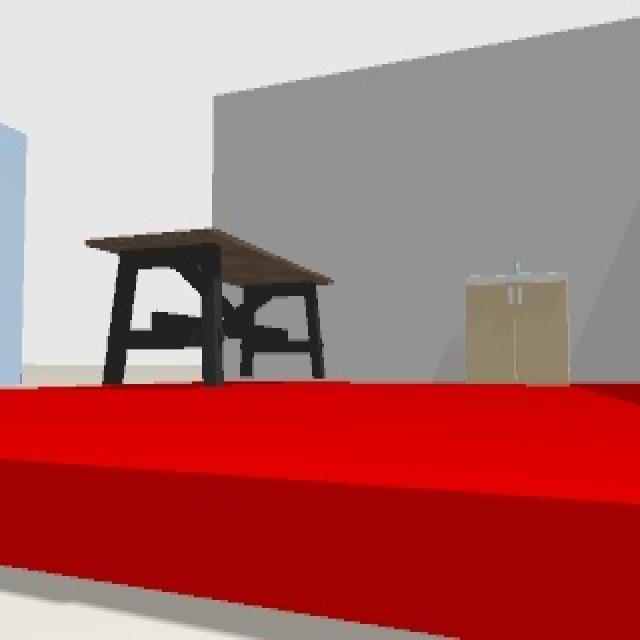dining: (86, 229, 333, 383)
